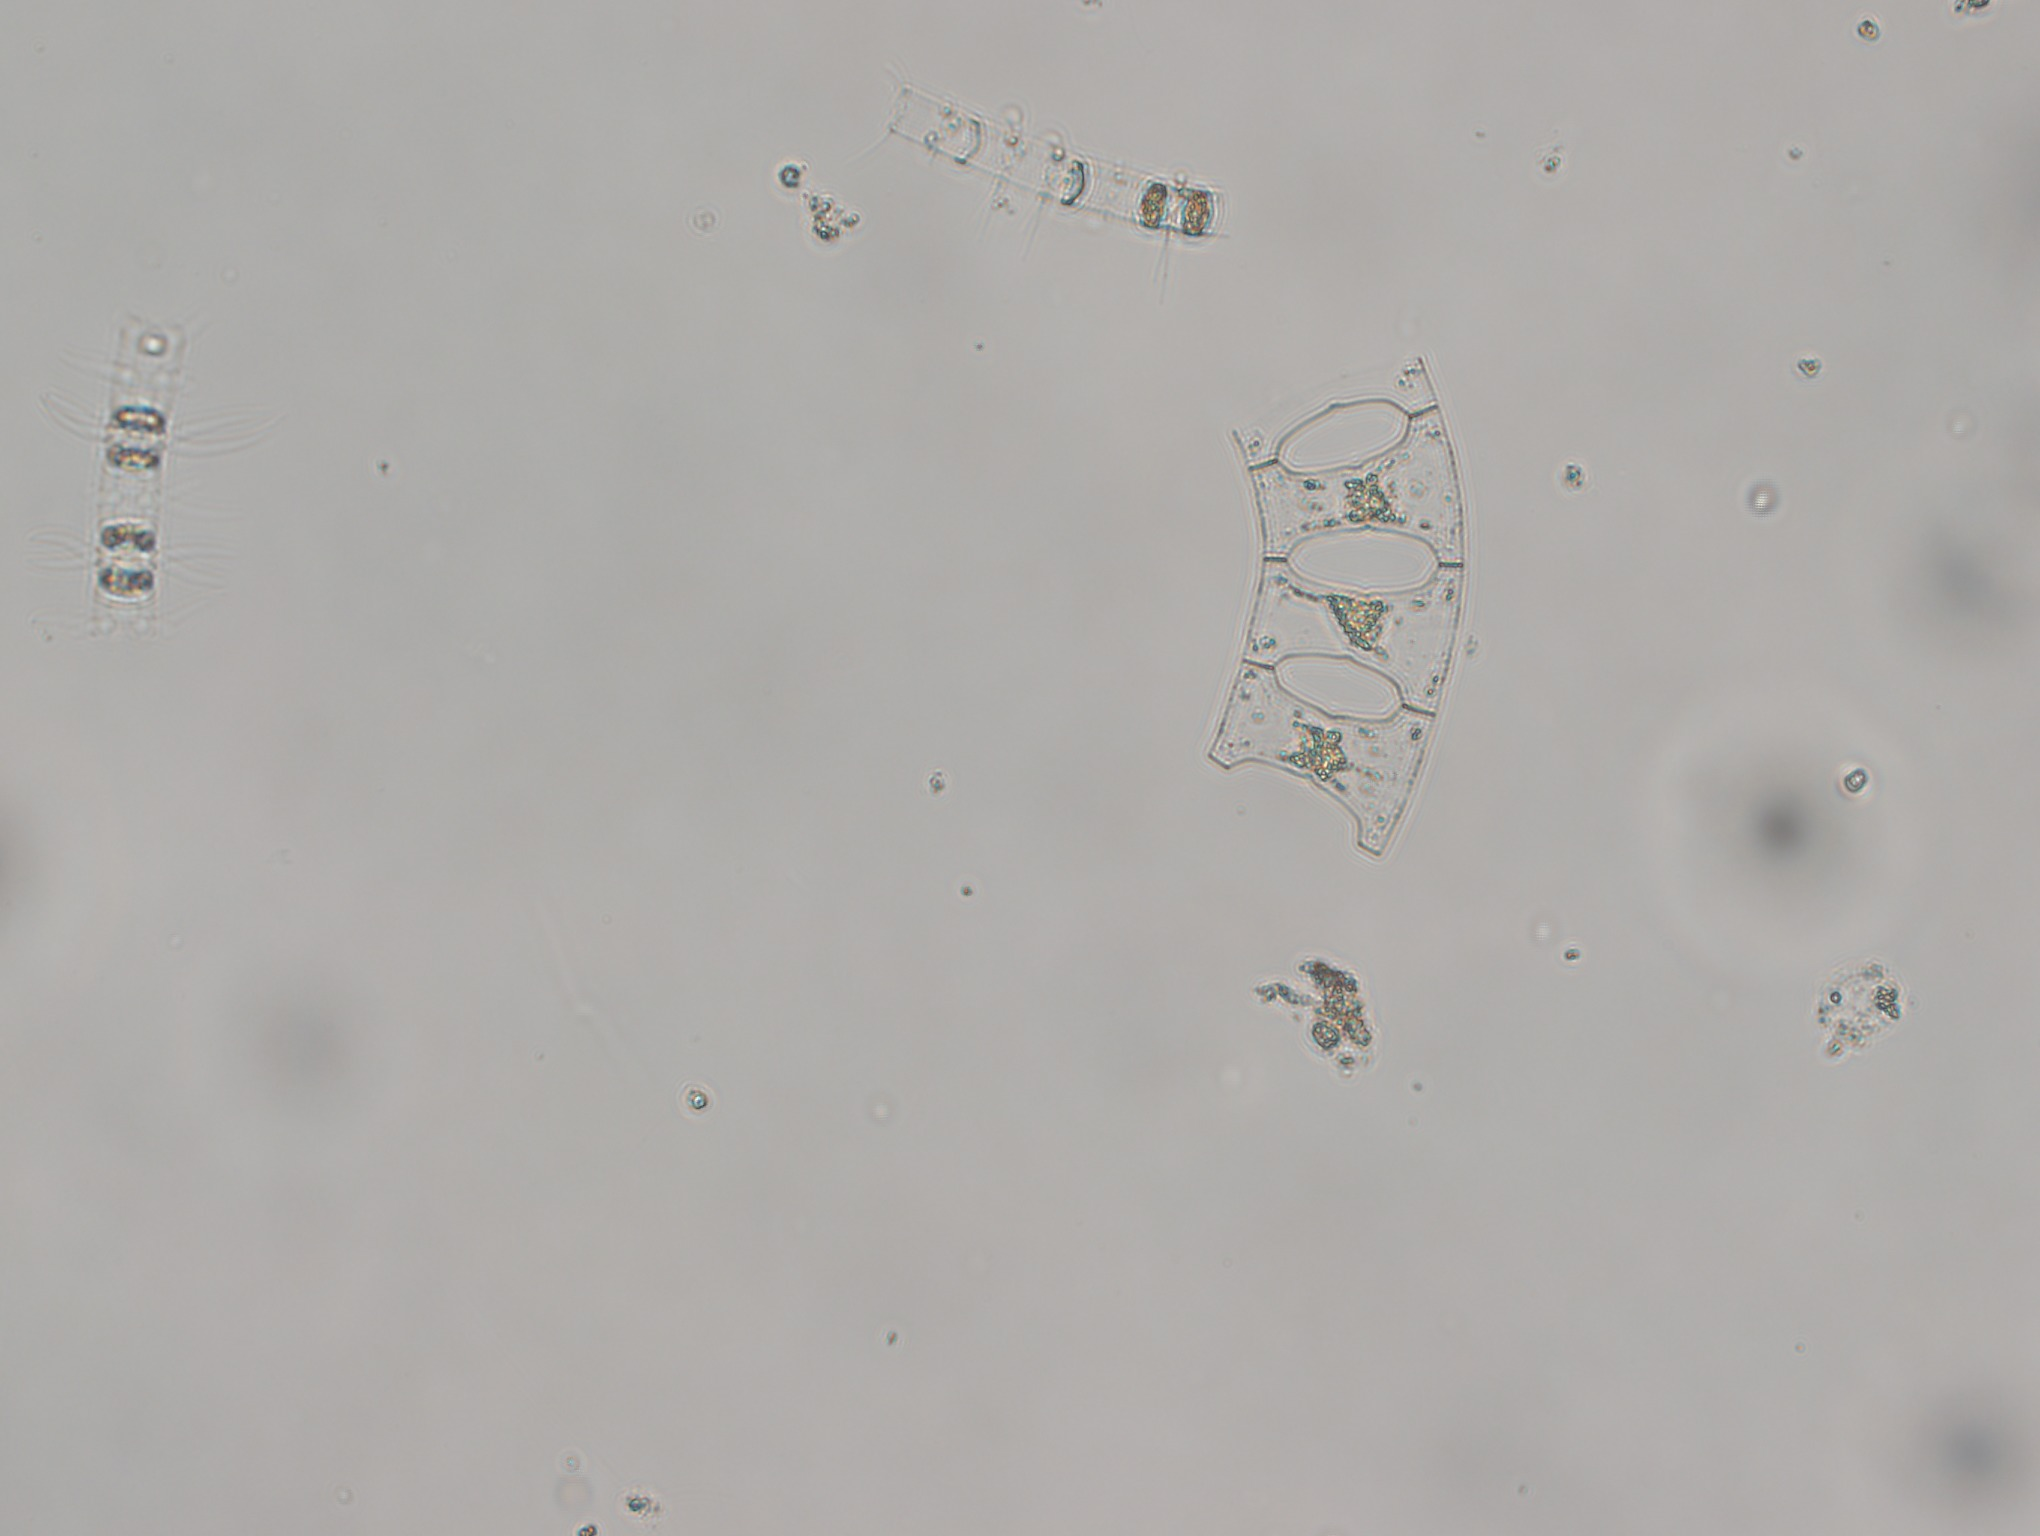chaetoceros: (874, 65, 1255, 303), (24, 315, 252, 663)
eucampia: (1208, 353, 1471, 862)
